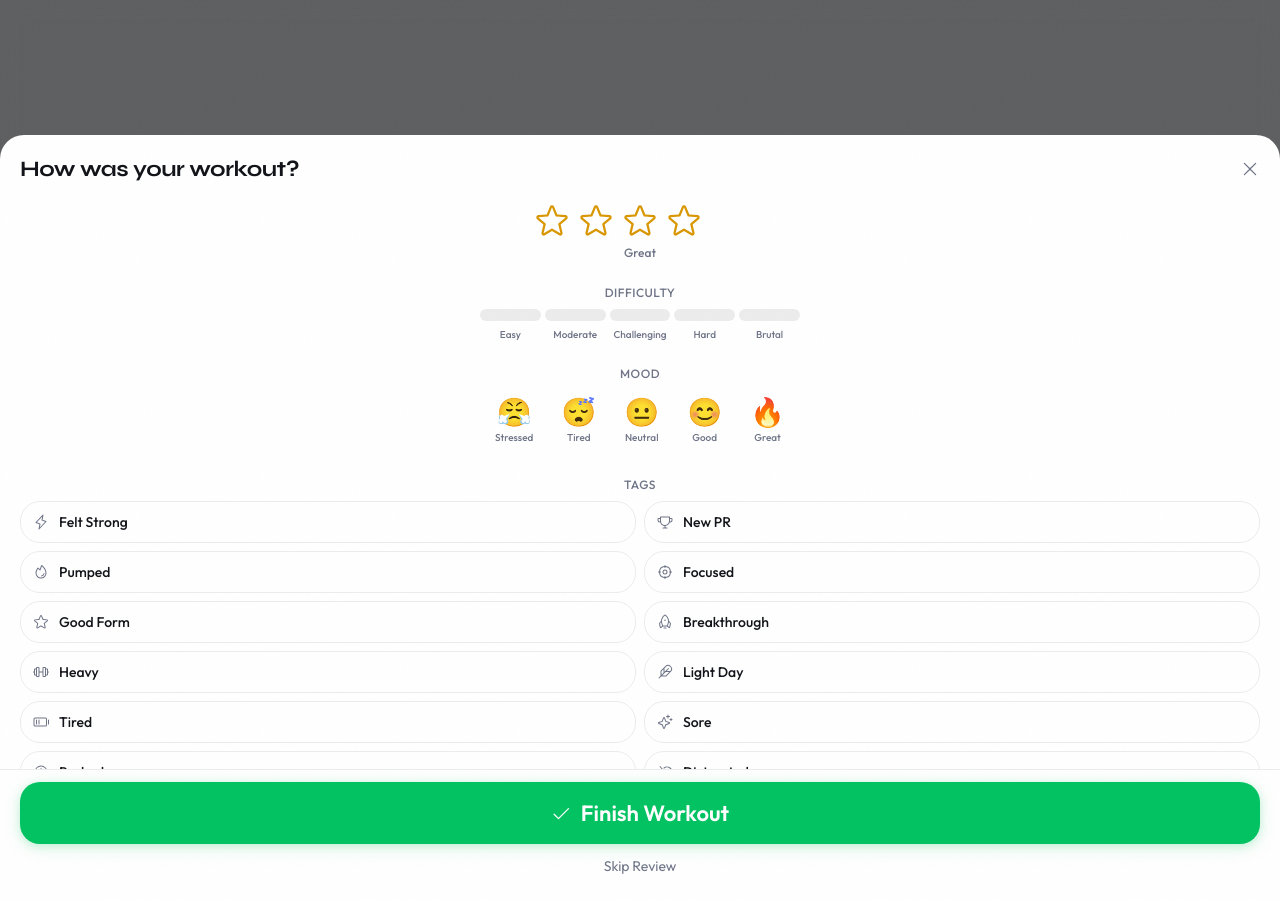
Test: PostWorkoutReview › submit › shows Review Saved message after successful submit
Step 1. Click the button "Finish Workout" → (640, 813), box [20, 782, 1260, 844]
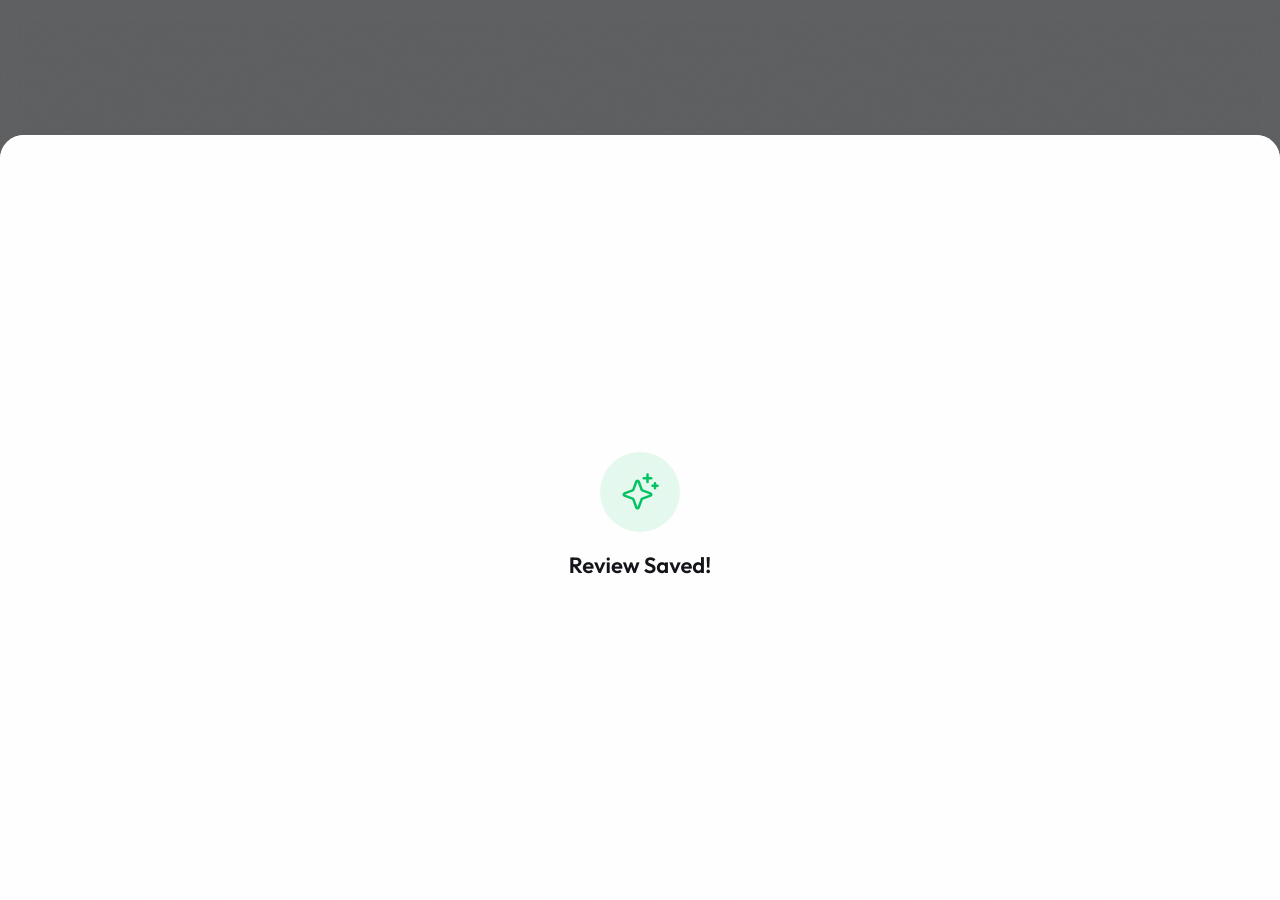
Check: the text "Review Saved!" is shown, box [569, 548, 711, 583]
